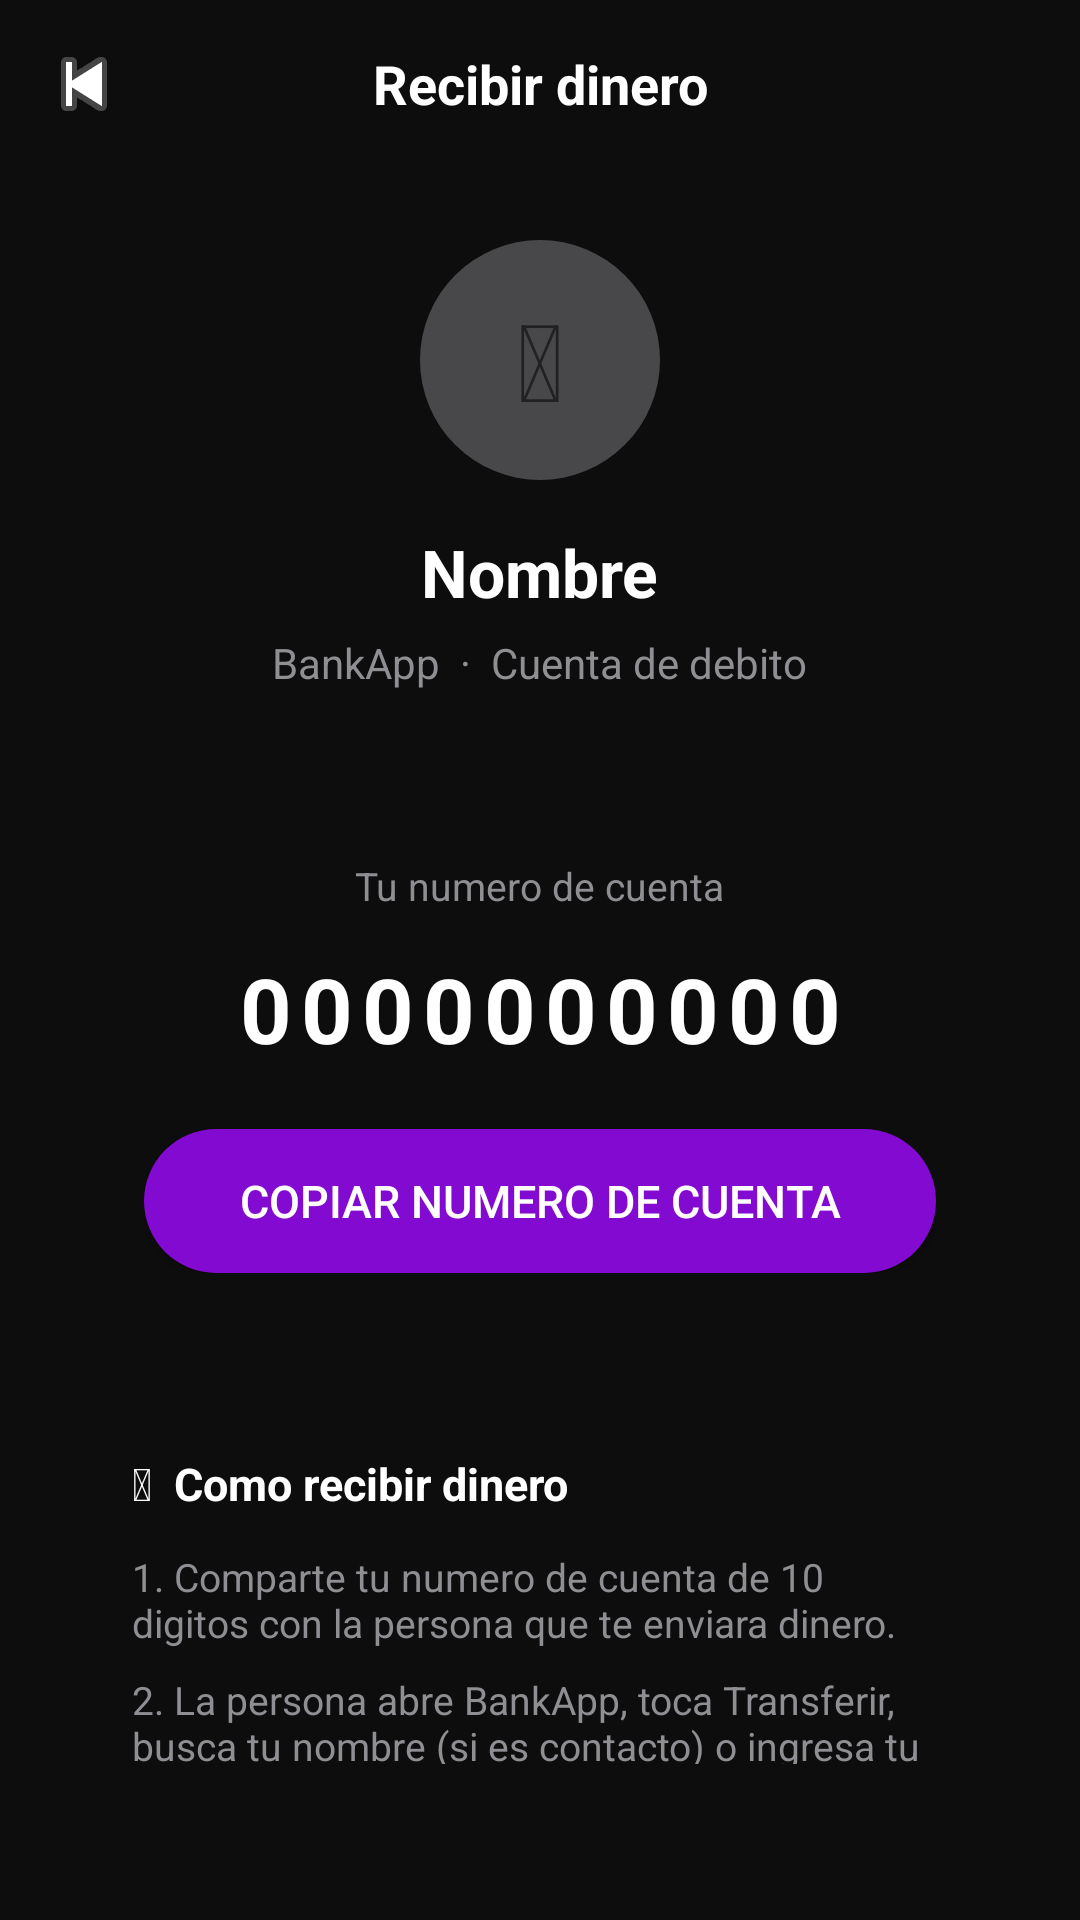

Screen size 1080px x 1920px. Icon name, then its box in pixels as box=[x1, y1, x2, y2]:
Regresar: box=[61, 57, 107, 111]
